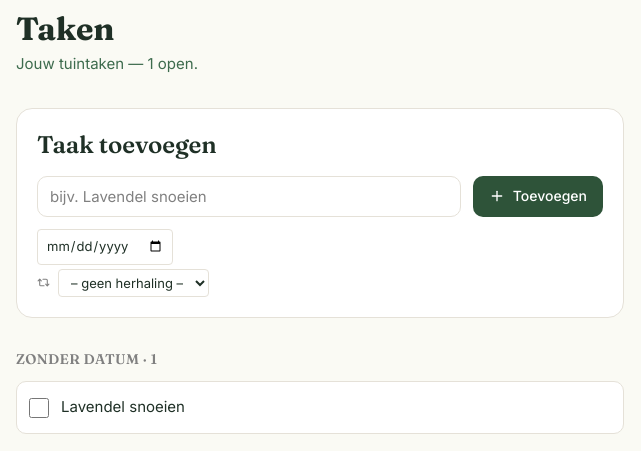
Test case: journey: taak afvinken › markeert een open taak als klaar via de checkbox
The width and height of the screenshot is (641, 451).
Click the checkbox named "Markeer 'Lavendel snoeien' als klaar" at [39, 408], box [29,398,49,418]
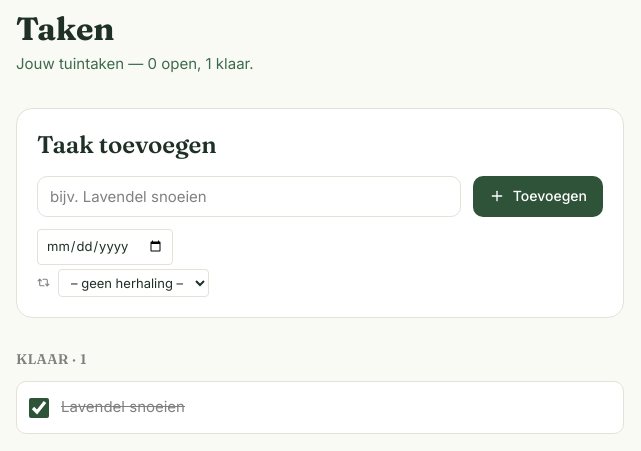
Expected: the checkbox named "Markeer 'Lavendel snoeien' als open" is shown, [29,398,49,418]
